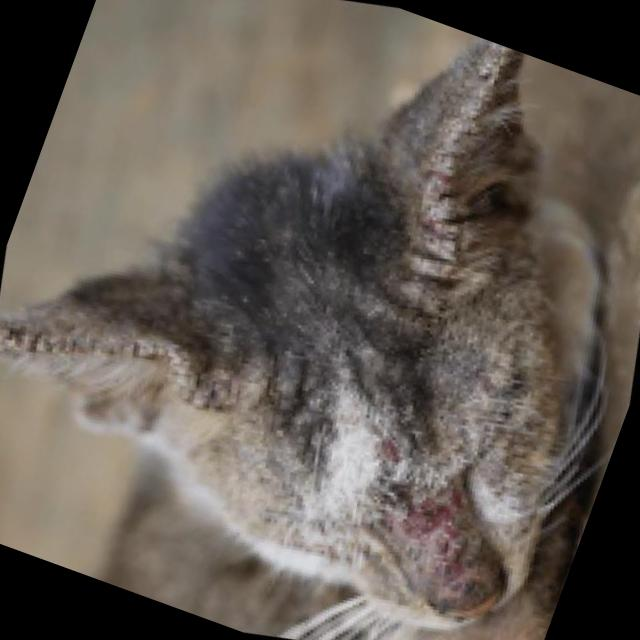Mange: (0, 284, 175, 403), (380, 465, 507, 608), (396, 108, 496, 250), (446, 34, 540, 126), (359, 413, 426, 483)
